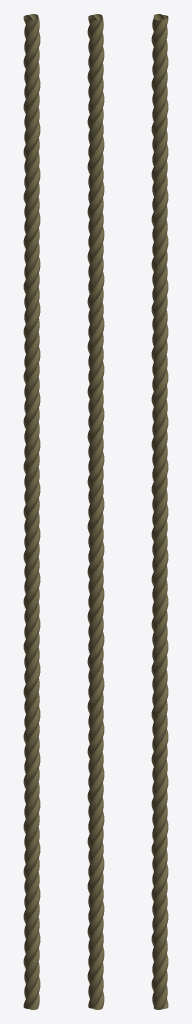
The model's file is rope.glb.
The picture shows the model from 3 angles, left to right: view 1: azimuth 90°, elevation 25°; view 2: azimuth 210°, elevation 25°; view 3: azimuth 270°, elevation 25°; orthographic projection.
Visible parts, largest first — view 1: Circle.001; view 2: Circle.001; view 3: Circle.001.
Boxes of the visible parts, box(x1,y1,x2,y2) form: Circle.001: box(23, 14, 40, 1009); Circle.001: box(87, 14, 104, 1009); Circle.001: box(151, 14, 168, 1009).
Size of the model in its own units: 0.2638 by 16.95 by 0.2638.
